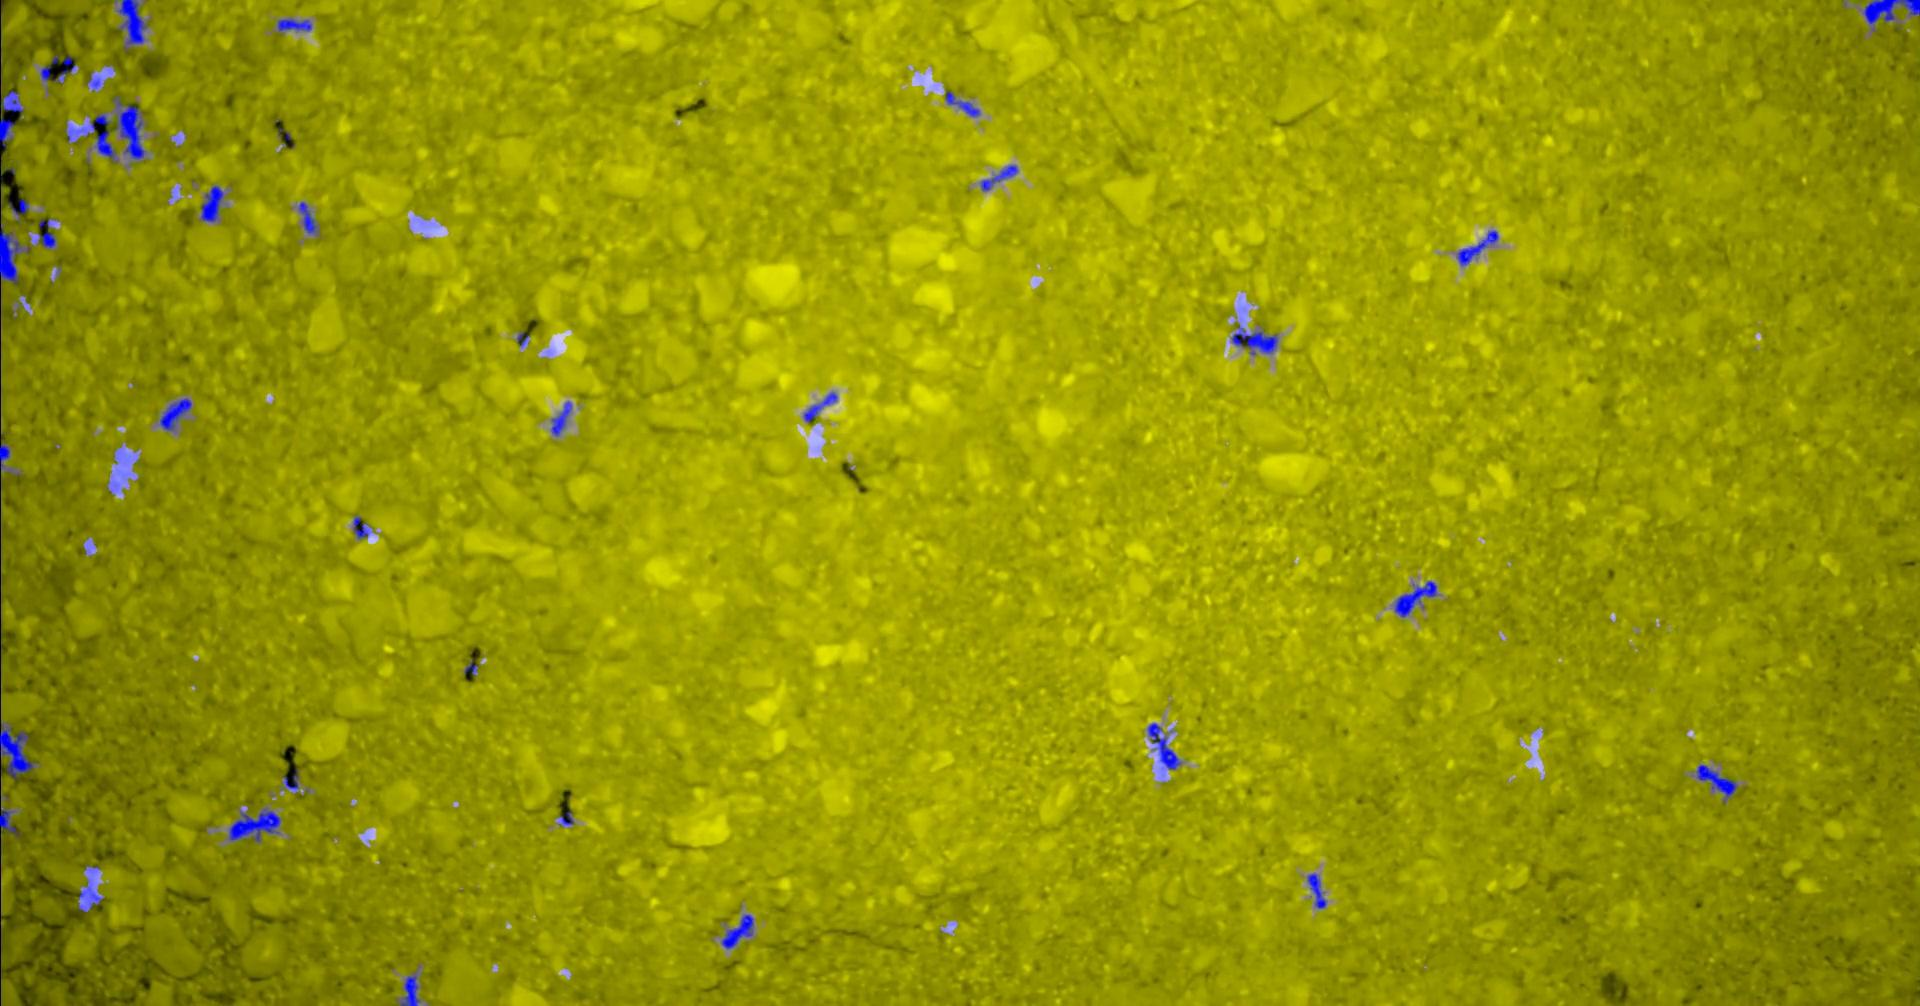ant: (0, 721, 36, 779), (113, 95, 143, 159), (0, 72, 22, 151), (229, 808, 279, 841), (1695, 763, 1736, 801), (1394, 580, 1436, 617), (1147, 723, 1180, 768), (1457, 230, 1498, 265), (0, 213, 22, 282), (1230, 324, 1277, 354), (1863, 0, 1919, 24), (117, 0, 146, 44), (720, 915, 753, 948), (159, 398, 190, 431), (803, 392, 836, 422), (980, 165, 1017, 191), (945, 90, 979, 116), (201, 185, 223, 221), (1305, 873, 1326, 908), (550, 401, 571, 434), (77, 882, 103, 909), (94, 130, 116, 161), (399, 974, 419, 1005), (298, 201, 317, 232), (53, 56, 75, 83), (0, 808, 19, 837), (8, 198, 28, 221), (276, 18, 311, 30), (353, 516, 367, 539), (90, 114, 110, 130), (283, 768, 298, 789), (37, 231, 55, 248), (0, 441, 9, 467), (463, 661, 477, 674), (559, 810, 573, 824), (41, 65, 51, 80), (0, 926, 1, 979)
